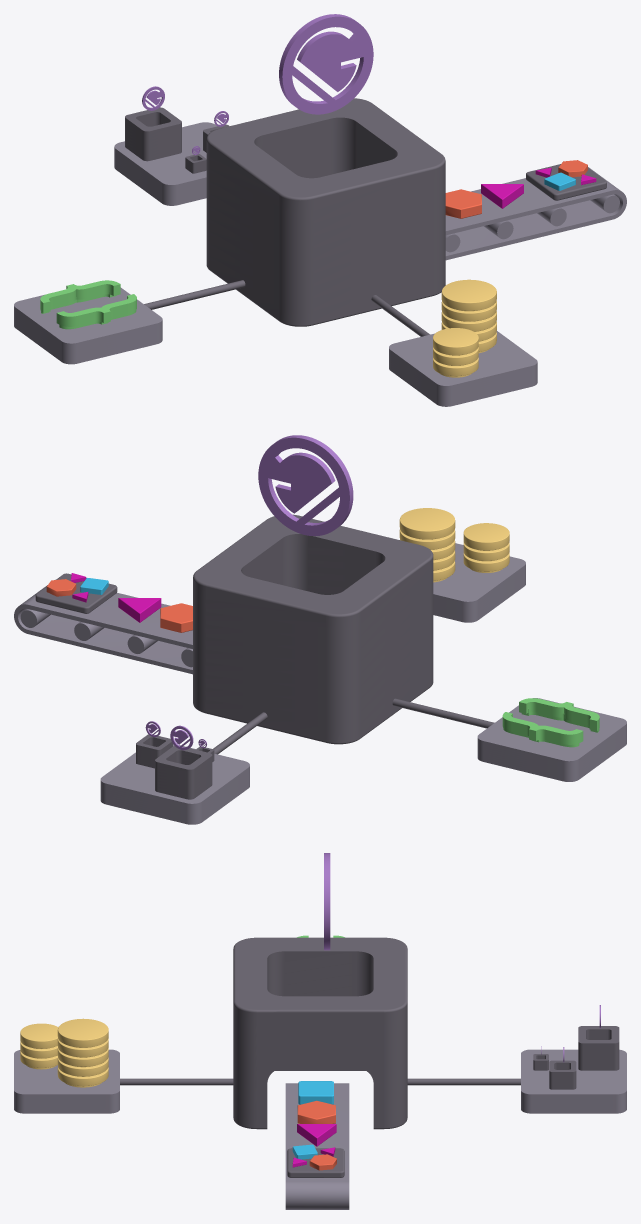
Rendered from dracoGatsby.gltf.
3 renders of one model, top to bottom at view 1: azimuth 30°, elevation 25°; view 2: azimuth 150°, elevation 25°; view 3: azimuth 270°, elevation 25°, orthographic. The views are drawn at different scales.
Visible parts, largest first — view 1: Block, base (×3), Belt, Logo, Database, Block Above, Braces, Tubes, Rectangle-Base.1, Hexagon.1, Triangle.1, Logos; view 2: Block, base (×3), Belt, Logo, Database, Block Above, Braces, Tubes, Rectangle-Base.1, Hexagon.1, Triangle.1, Logos; view 3: Block, base (×2), Database, Belt, Block Above, Tubes, Rectangle-Base.1, Hexagon.1, Rectangle.1, Logo, Triangle.1.
Part boxes in pixels (box(x1,y1,x2,y2)): Block: box(206, 98, 445, 326); base (×3): box(14, 122, 537, 406); Belt: box(445, 167, 626, 260); Logo: box(279, 14, 373, 114); Database: box(433, 279, 496, 377); Block Above: box(125, 107, 229, 173); Braces: box(40, 280, 136, 329); Tubes: box(144, 280, 429, 336); Rectangle-Base.1: box(526, 164, 606, 200); Hexagon.1: box(445, 189, 481, 218); Triangle.1: box(481, 184, 523, 208); Logos: box(142, 86, 228, 155); Block: box(193, 514, 433, 744); base (×3): box(100, 543, 626, 824); Belt: box(14, 579, 192, 674); Logo: box(258, 435, 353, 536); Database: box(399, 508, 509, 582); Block Above: box(136, 734, 214, 799); Braces: box(502, 698, 599, 747); Tubes: box(213, 698, 494, 754); Rectangle-Base.1: box(35, 573, 117, 613); Hexagon.1: box(160, 603, 192, 632); Triangle.1: box(118, 598, 161, 622); Logos: box(145, 721, 206, 750); Block: box(233, 937, 407, 1129); base (×2): box(14, 1049, 626, 1113); Database: box(20, 1018, 108, 1087); Belt: box(285, 1083, 349, 1209); Block Above: box(533, 1026, 619, 1089); Tubes: box(120, 1078, 520, 1085); Rectangle-Base.1: box(287, 1148, 344, 1177); Hexagon.1: box(297, 1100, 335, 1123); Rectangle.1: box(298, 1081, 333, 1104); Logo: box(324, 853, 330, 950); Triangle.1: box(297, 1124, 336, 1146).
Size of the model in its own units: 143 by 61.65 by 144.
